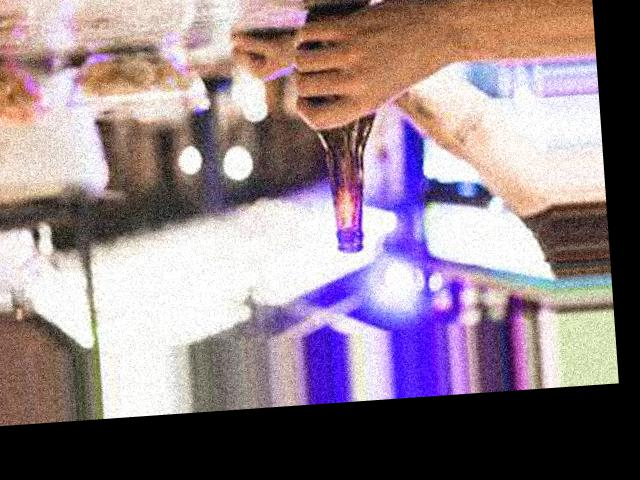beer: (305, 3, 384, 254)
